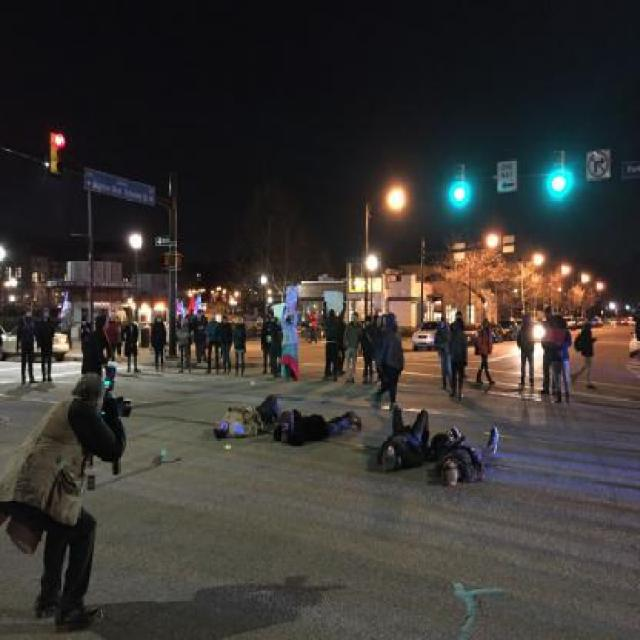Person: (0, 373, 128, 622), (428, 427, 499, 485), (373, 404, 432, 471), (269, 409, 363, 448), (375, 312, 407, 420), (212, 392, 280, 436), (80, 314, 114, 380), (550, 314, 573, 404), (322, 299, 347, 381), (571, 314, 597, 389), (15, 309, 37, 385), (538, 306, 556, 397), (279, 309, 301, 382), (514, 312, 534, 385), (475, 318, 497, 384), (448, 318, 466, 396), (35, 308, 54, 379), (449, 312, 468, 378), (347, 311, 364, 383), (432, 317, 448, 391), (359, 313, 375, 382), (149, 314, 168, 372), (204, 312, 221, 373), (258, 312, 274, 376), (373, 314, 387, 383), (232, 316, 248, 376), (176, 316, 193, 372), (123, 314, 139, 372), (332, 313, 346, 375), (269, 317, 283, 375), (219, 315, 232, 373), (193, 309, 204, 363), (78, 316, 93, 352), (106, 317, 119, 358), (198, 309, 208, 348), (114, 314, 123, 354), (184, 317, 193, 357), (306, 312, 317, 343), (187, 309, 196, 345), (65, 317, 72, 348), (375, 315, 379, 357)
